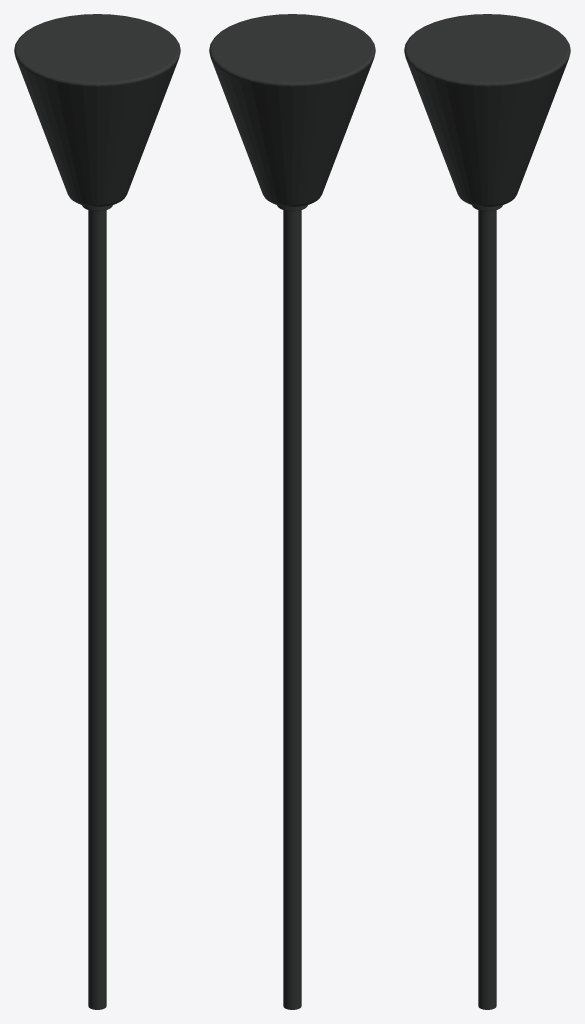
Rendered from venti1.obj.
3 views of the same model, side by side, from view 1: azimuth 30°, elevation 25°; view 2: azimuth 150°, elevation 25°; view 3: azimuth 270°, elevation 25° (orthographic).
Parts seen in each view (by area): view 1: Simple_Ceiling_Fancable; view 2: Simple_Ceiling_Fancable; view 3: Simple_Ceiling_Fancable.
Part boxes in pixels (x1,y1,x2,y2): Simple_Ceiling_Fancable: [14, 14, 180, 1009]; Simple_Ceiling_Fancable: [209, 14, 375, 1009]; Simple_Ceiling_Fancable: [404, 14, 570, 1009].
Size of the model in its own units: 0.081 by 0.5143 by 0.081.
1 material, 1 textured.
